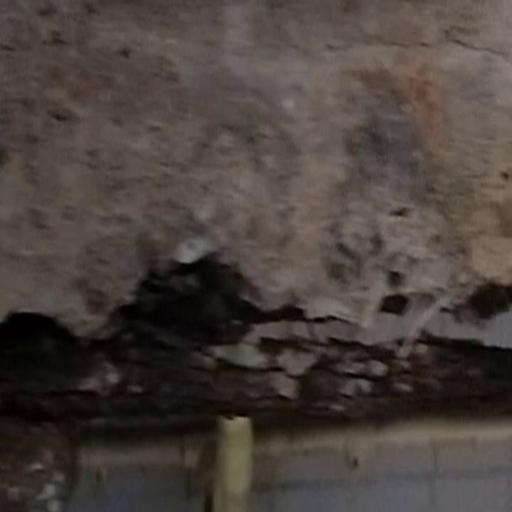spalling: (0, 224, 512, 436)
